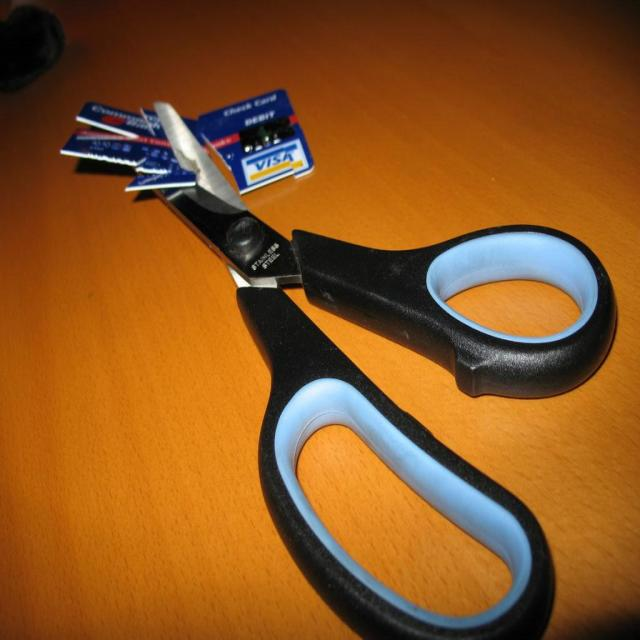scissor: (87, 98, 618, 640)
